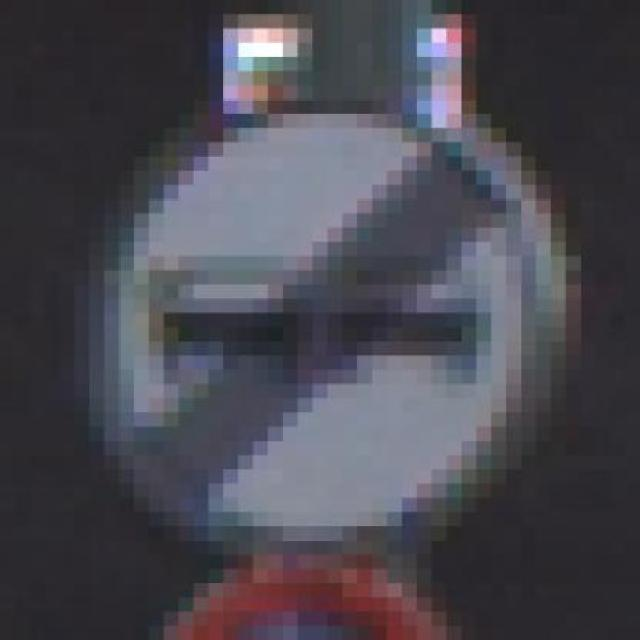No_Over_Taking: (45, 71, 610, 555)
